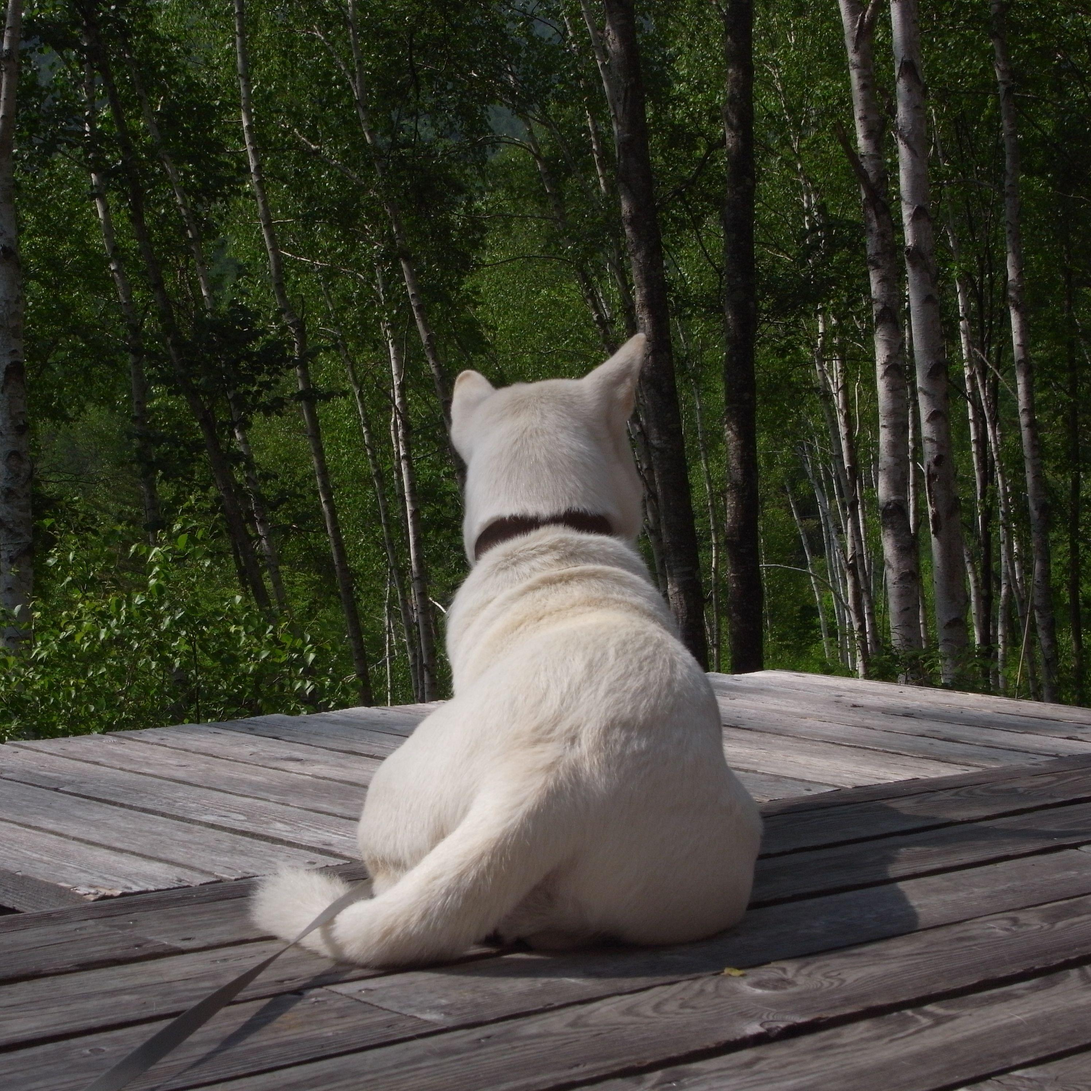adult_dog: (244, 331, 764, 966)
